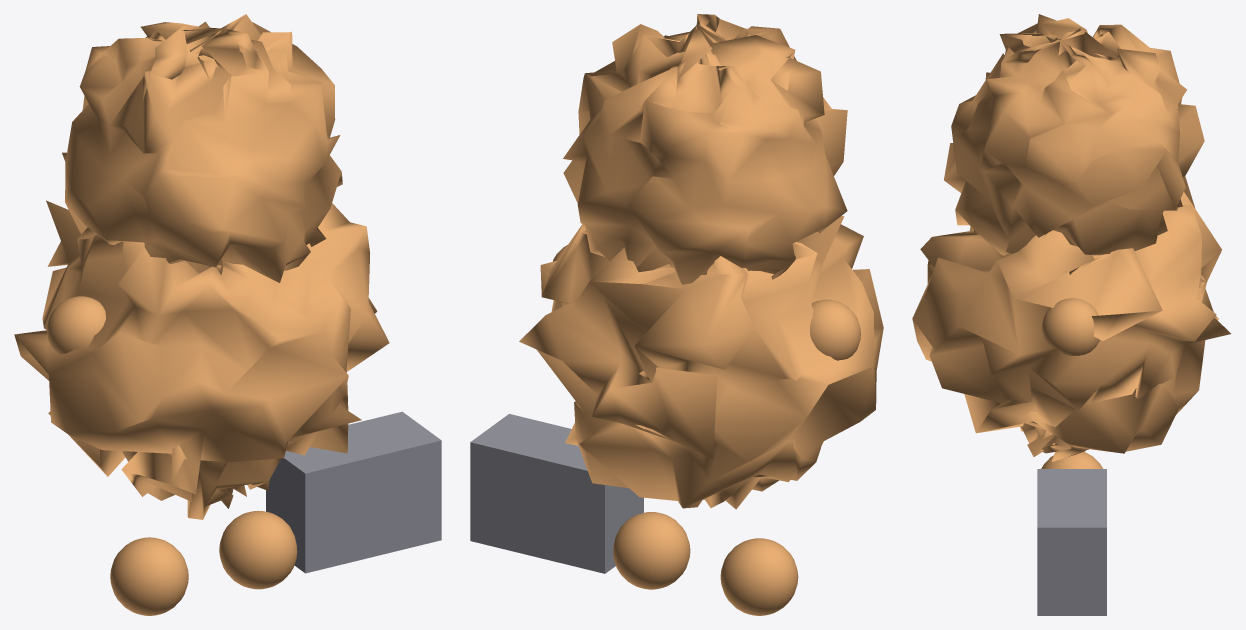
The model's file is clay_bat_cat_boombox.glb.
3 views of the same model, side by side, from view 1: azimuth 30°, elevation 25°; view 2: azimuth 150°, elevation 25°; view 3: azimuth 270°, elevation 25° (orthographic). The views are drawn at different scales.
Visible parts, largest first — view 1: leg.001; view 2: leg.001; view 3: leg.001.
Part boxes in pixels (bbox=[...]): leg.001: bbox=[14, 14, 441, 615]; leg.001: bbox=[470, 14, 883, 615]; leg.001: bbox=[912, 14, 1231, 615].
Bounding box in the file's own units: 1.4 × 2.01 × 1.15.
